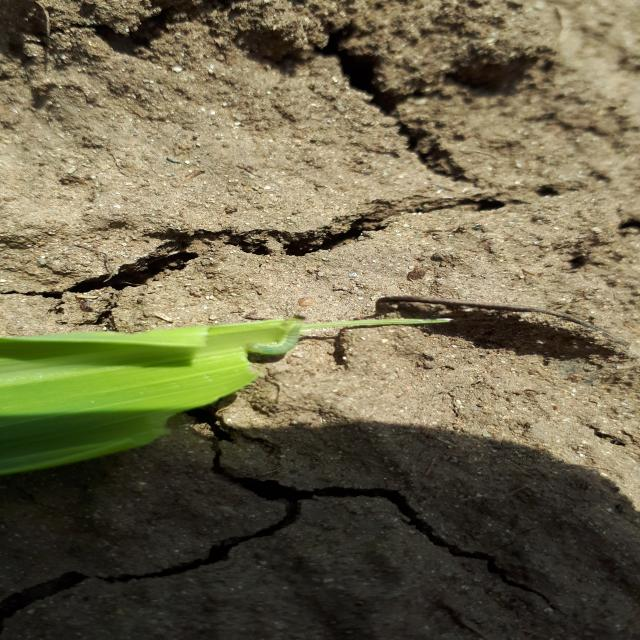armyworm: (244, 316, 310, 359)
